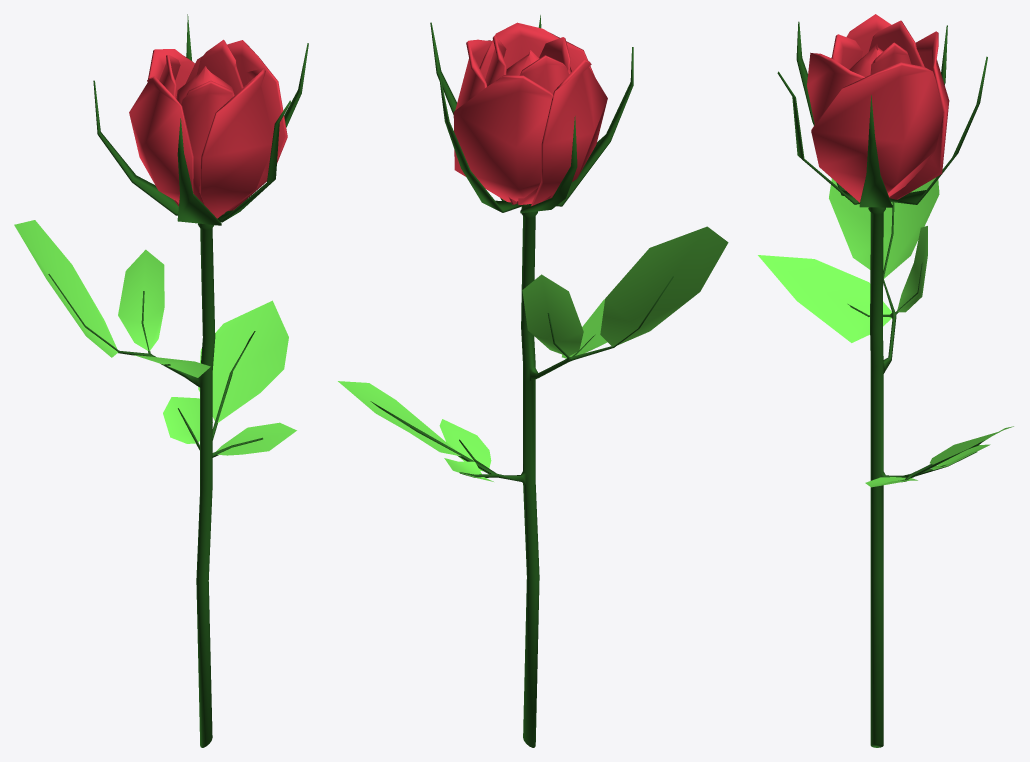
File: Rose.fbx
The picture shows the model from 3 angles, left to right: view 1: azimuth 30°, elevation 25°; view 2: azimuth 150°, elevation 25°; view 3: azimuth 270°, elevation 25°; orthographic projection. The views are drawn at different scales.
Parts seen in each view (by area): view 1: Rose; view 2: Rose; view 3: Rose.
Boxes of the visible parts, box(x1,y1,x2,y2) form: Rose: box(14, 14, 308, 747); Rose: box(338, 15, 728, 747); Rose: box(758, 14, 1013, 747).
Size of the model in its own units: 0.2887 by 0.6179 by 0.2003.
